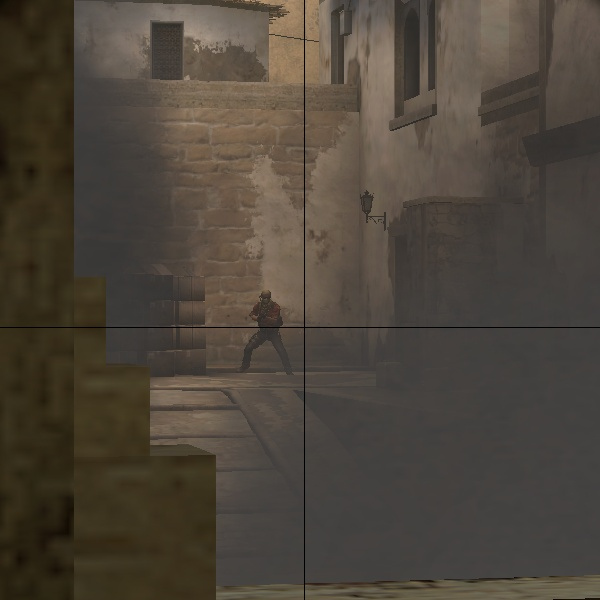t_body: (236, 285, 297, 375)
t_head: (255, 285, 278, 312)
